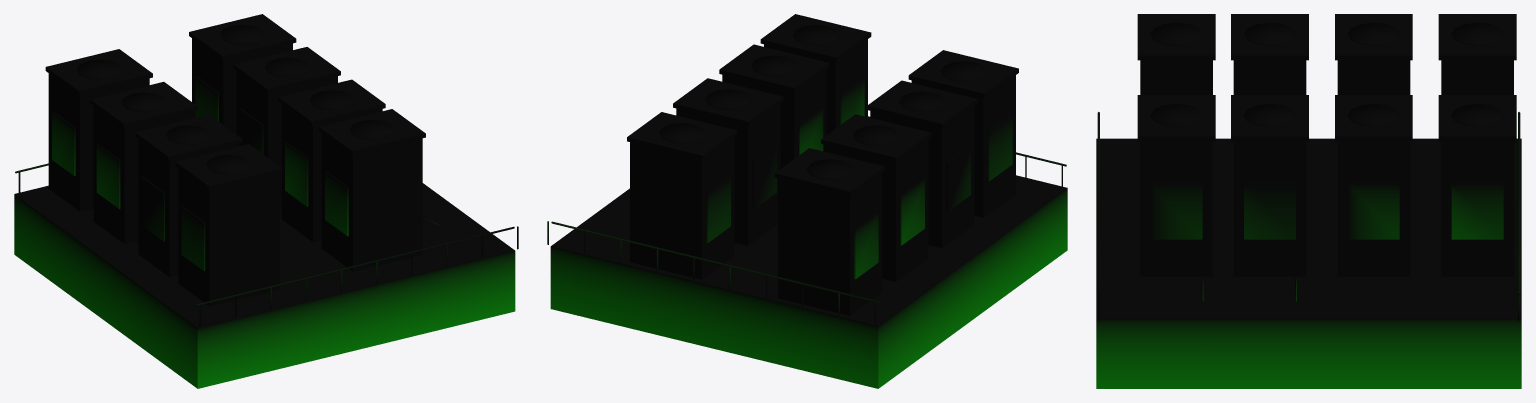
The model's file is transformerstation.glb.
The picture shows the model from 3 angles, left to right: view 1: azimuth 30°, elevation 25°; view 2: azimuth 150°, elevation 25°; view 3: azimuth 270°, elevation 25°; orthographic projection. The views are drawn at different scales.
Visible parts, largest first — view 1: lod0; view 2: lod0; view 3: lod0.
Boxes of the visible parts, bbox=[...] form: lod0: bbox=[14, 14, 518, 388]; lod0: bbox=[547, 14, 1067, 388]; lod0: bbox=[1096, 14, 1521, 388].
Size of what is drawn, in the model's own units: 16.62 by 9.05 by 16.4.
